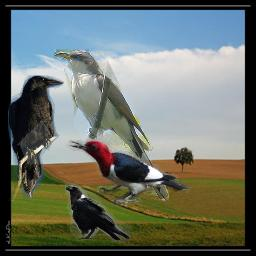Crow: (8, 75, 64, 201), (65, 183, 131, 243)
Cuckoo: (54, 49, 169, 201)
Woodpecker: (65, 137, 191, 207)
